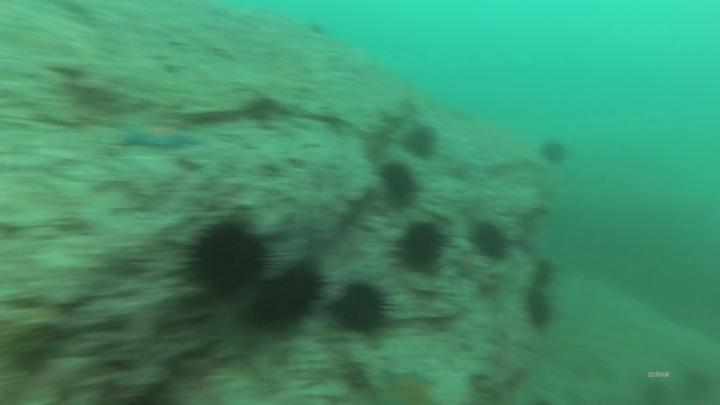echinus: (185, 219, 272, 306), (250, 263, 328, 328), (387, 219, 458, 275), (327, 280, 392, 338), (471, 219, 514, 262), (378, 160, 419, 204), (400, 126, 440, 163), (525, 289, 559, 330), (537, 136, 571, 167), (535, 256, 561, 290), (308, 23, 328, 38)
starfish: (114, 119, 209, 151), (375, 367, 440, 405)
